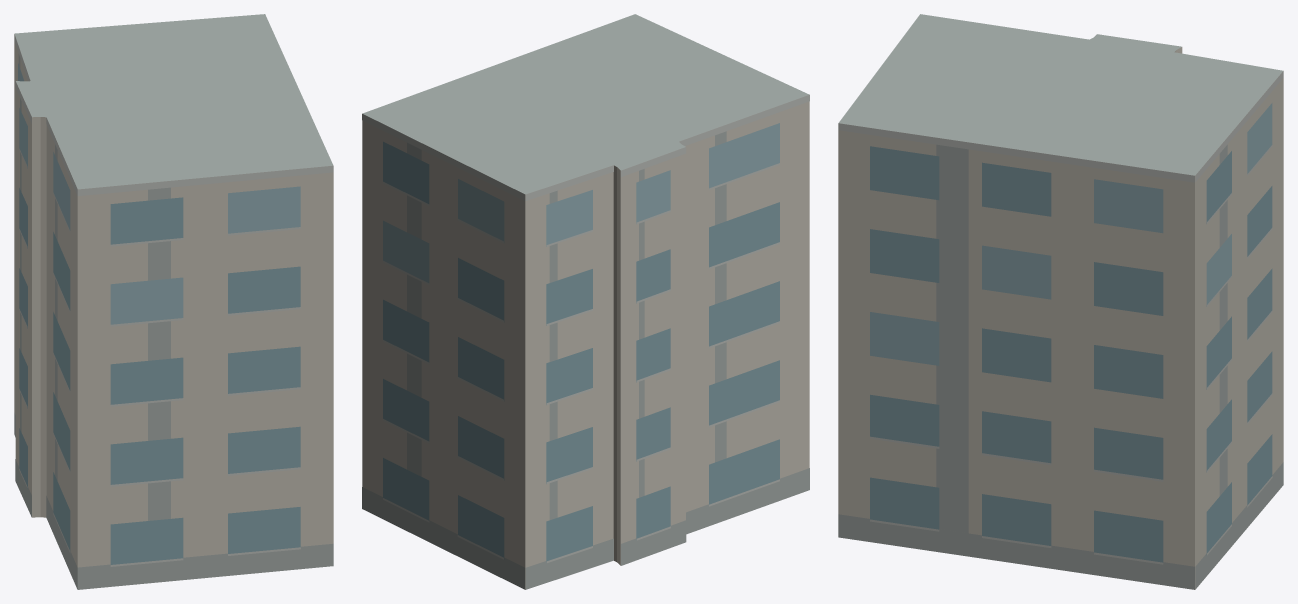
File: survey-upis-32883309.glb
3 views of the same model, side by side, from view 1: azimuth 30°, elevation 25°; view 2: azimuth 150°, elevation 25°; view 3: azimuth 270°, elevation 25° (orthographic). The views are drawn at different scales.
Visible parts, largest first — view 1: survey-upis-32883309.tmp; view 2: survey-upis-32883309.tmp; view 3: survey-upis-32883309.tmp.
Boxes of the visible parts, x1,y1,x2,y2 form: survey-upis-32883309.tmp: [14, 14, 333, 589]; survey-upis-32883309.tmp: [362, 14, 809, 589]; survey-upis-32883309.tmp: [838, 14, 1283, 589].
Bounding box in the file's own units: 12.07 × 14.4 × 14.04.
